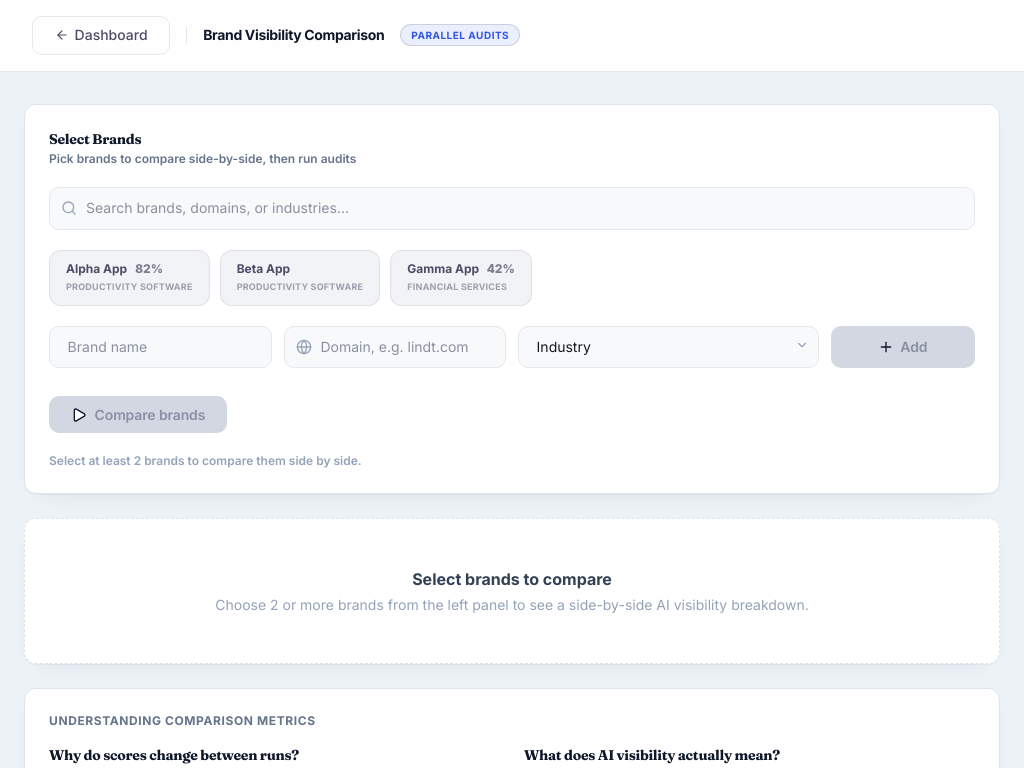
Scenario: Multi-Brand Comparison Page Component › supports adding a new brand option and auto-selecting it
Expected: the text "Alpha App" is shown, 66,261 -> 127,276
Type "Delta App" into the field named "New brand name" at (160, 347), box 49,326 -> 272,368
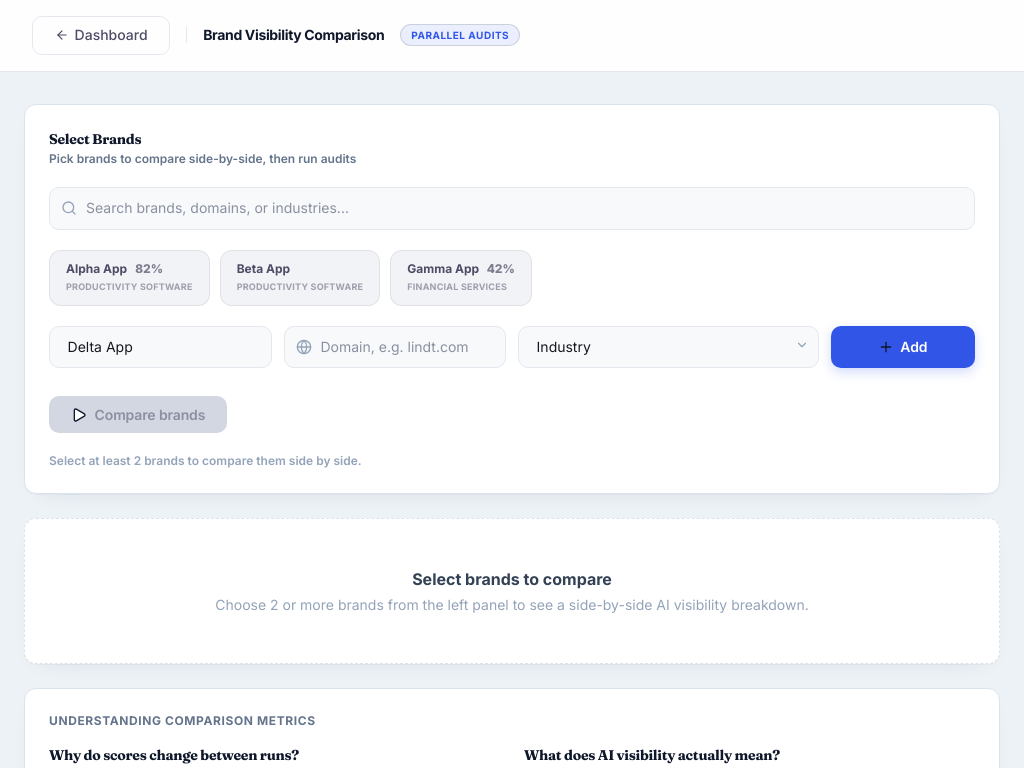
Click the button "Add" at (903, 347), box 831,326 -> 975,368
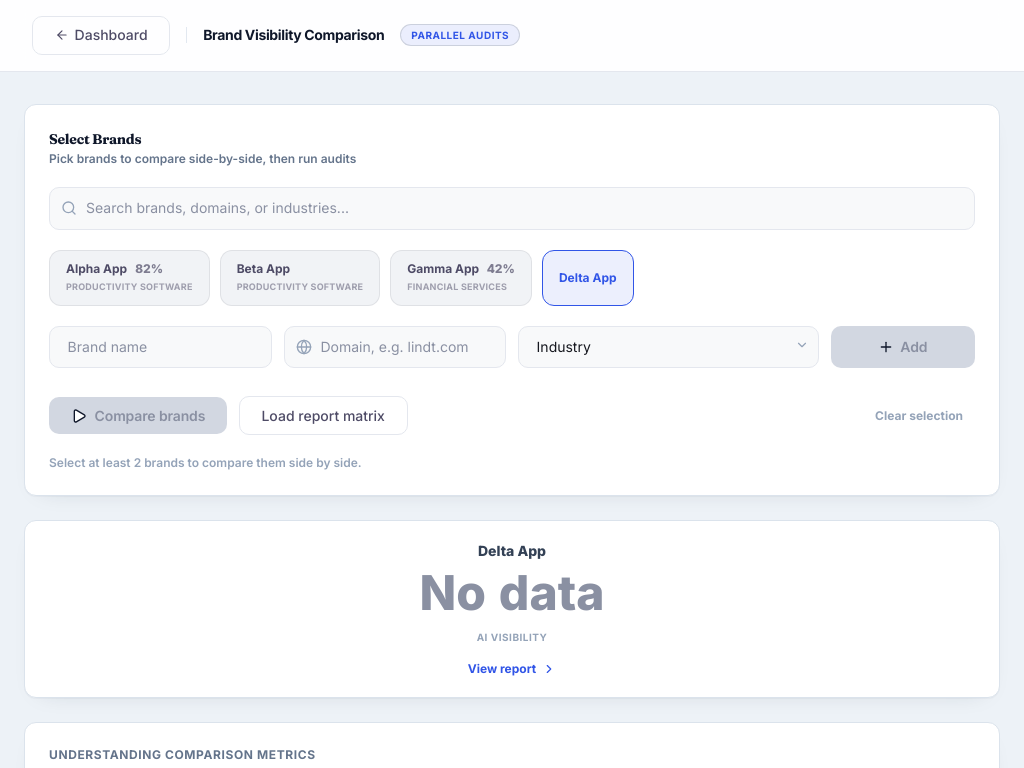
Expected: the button "Delta App" is shown, 542,250 -> 634,306
Expected: the text "Load report matrix" is shown, 261,408 -> 385,424
